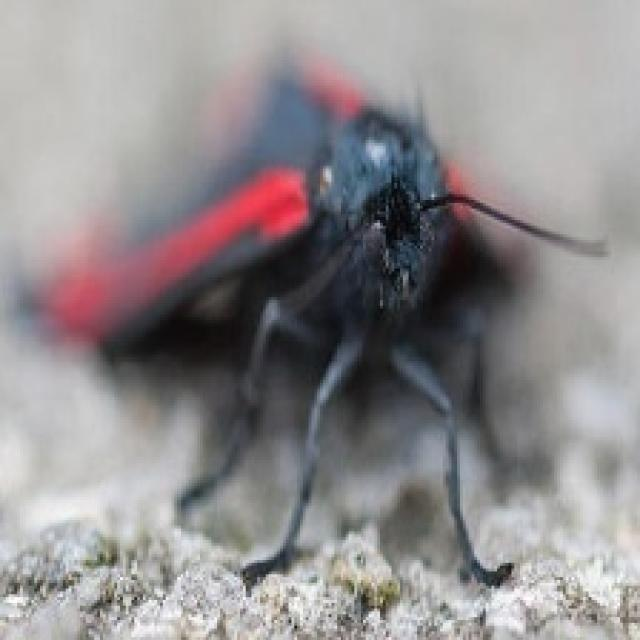butterfly: (23, 34, 608, 594)
